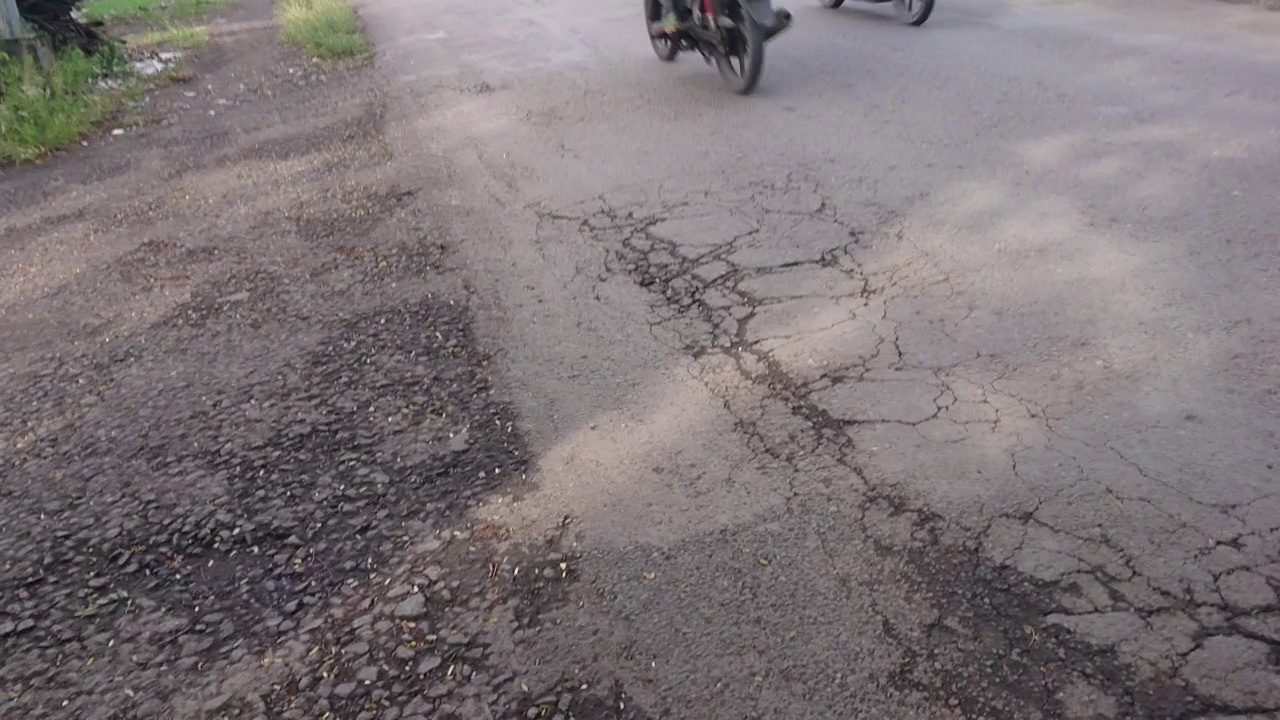Retak: (857, 499, 1280, 720), (593, 201, 900, 491)
